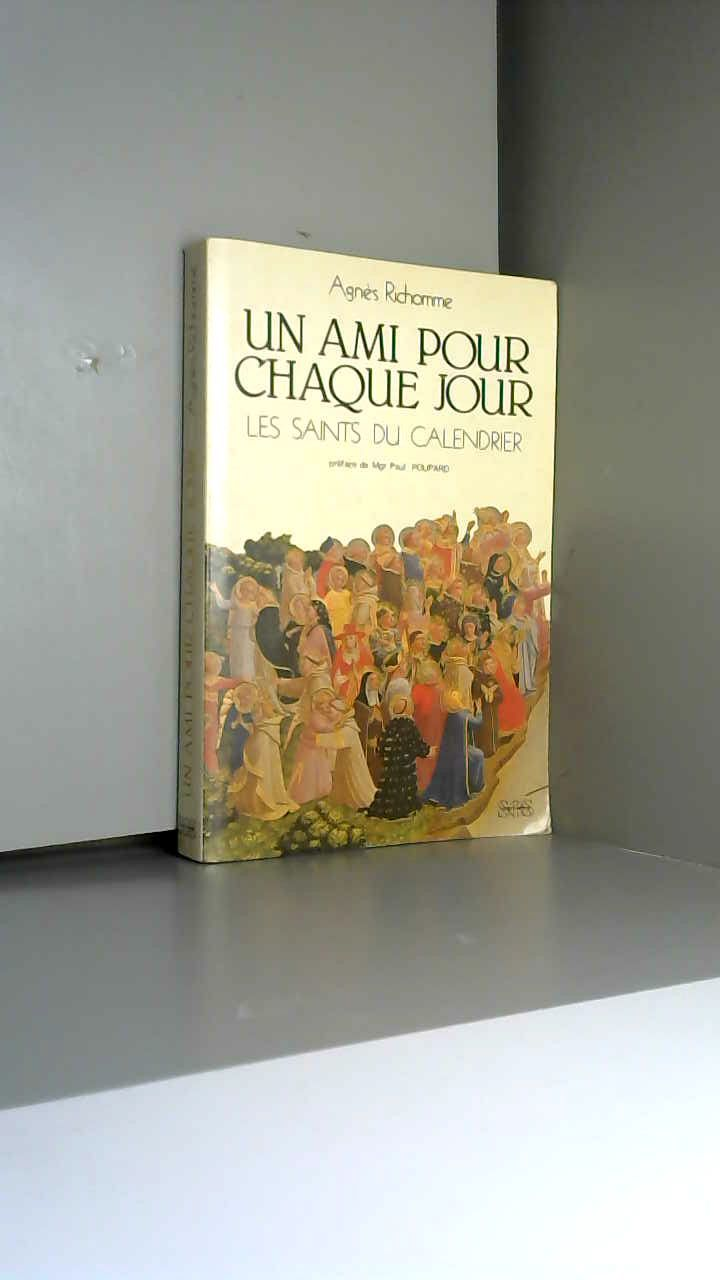book: (147, 207, 579, 883)
